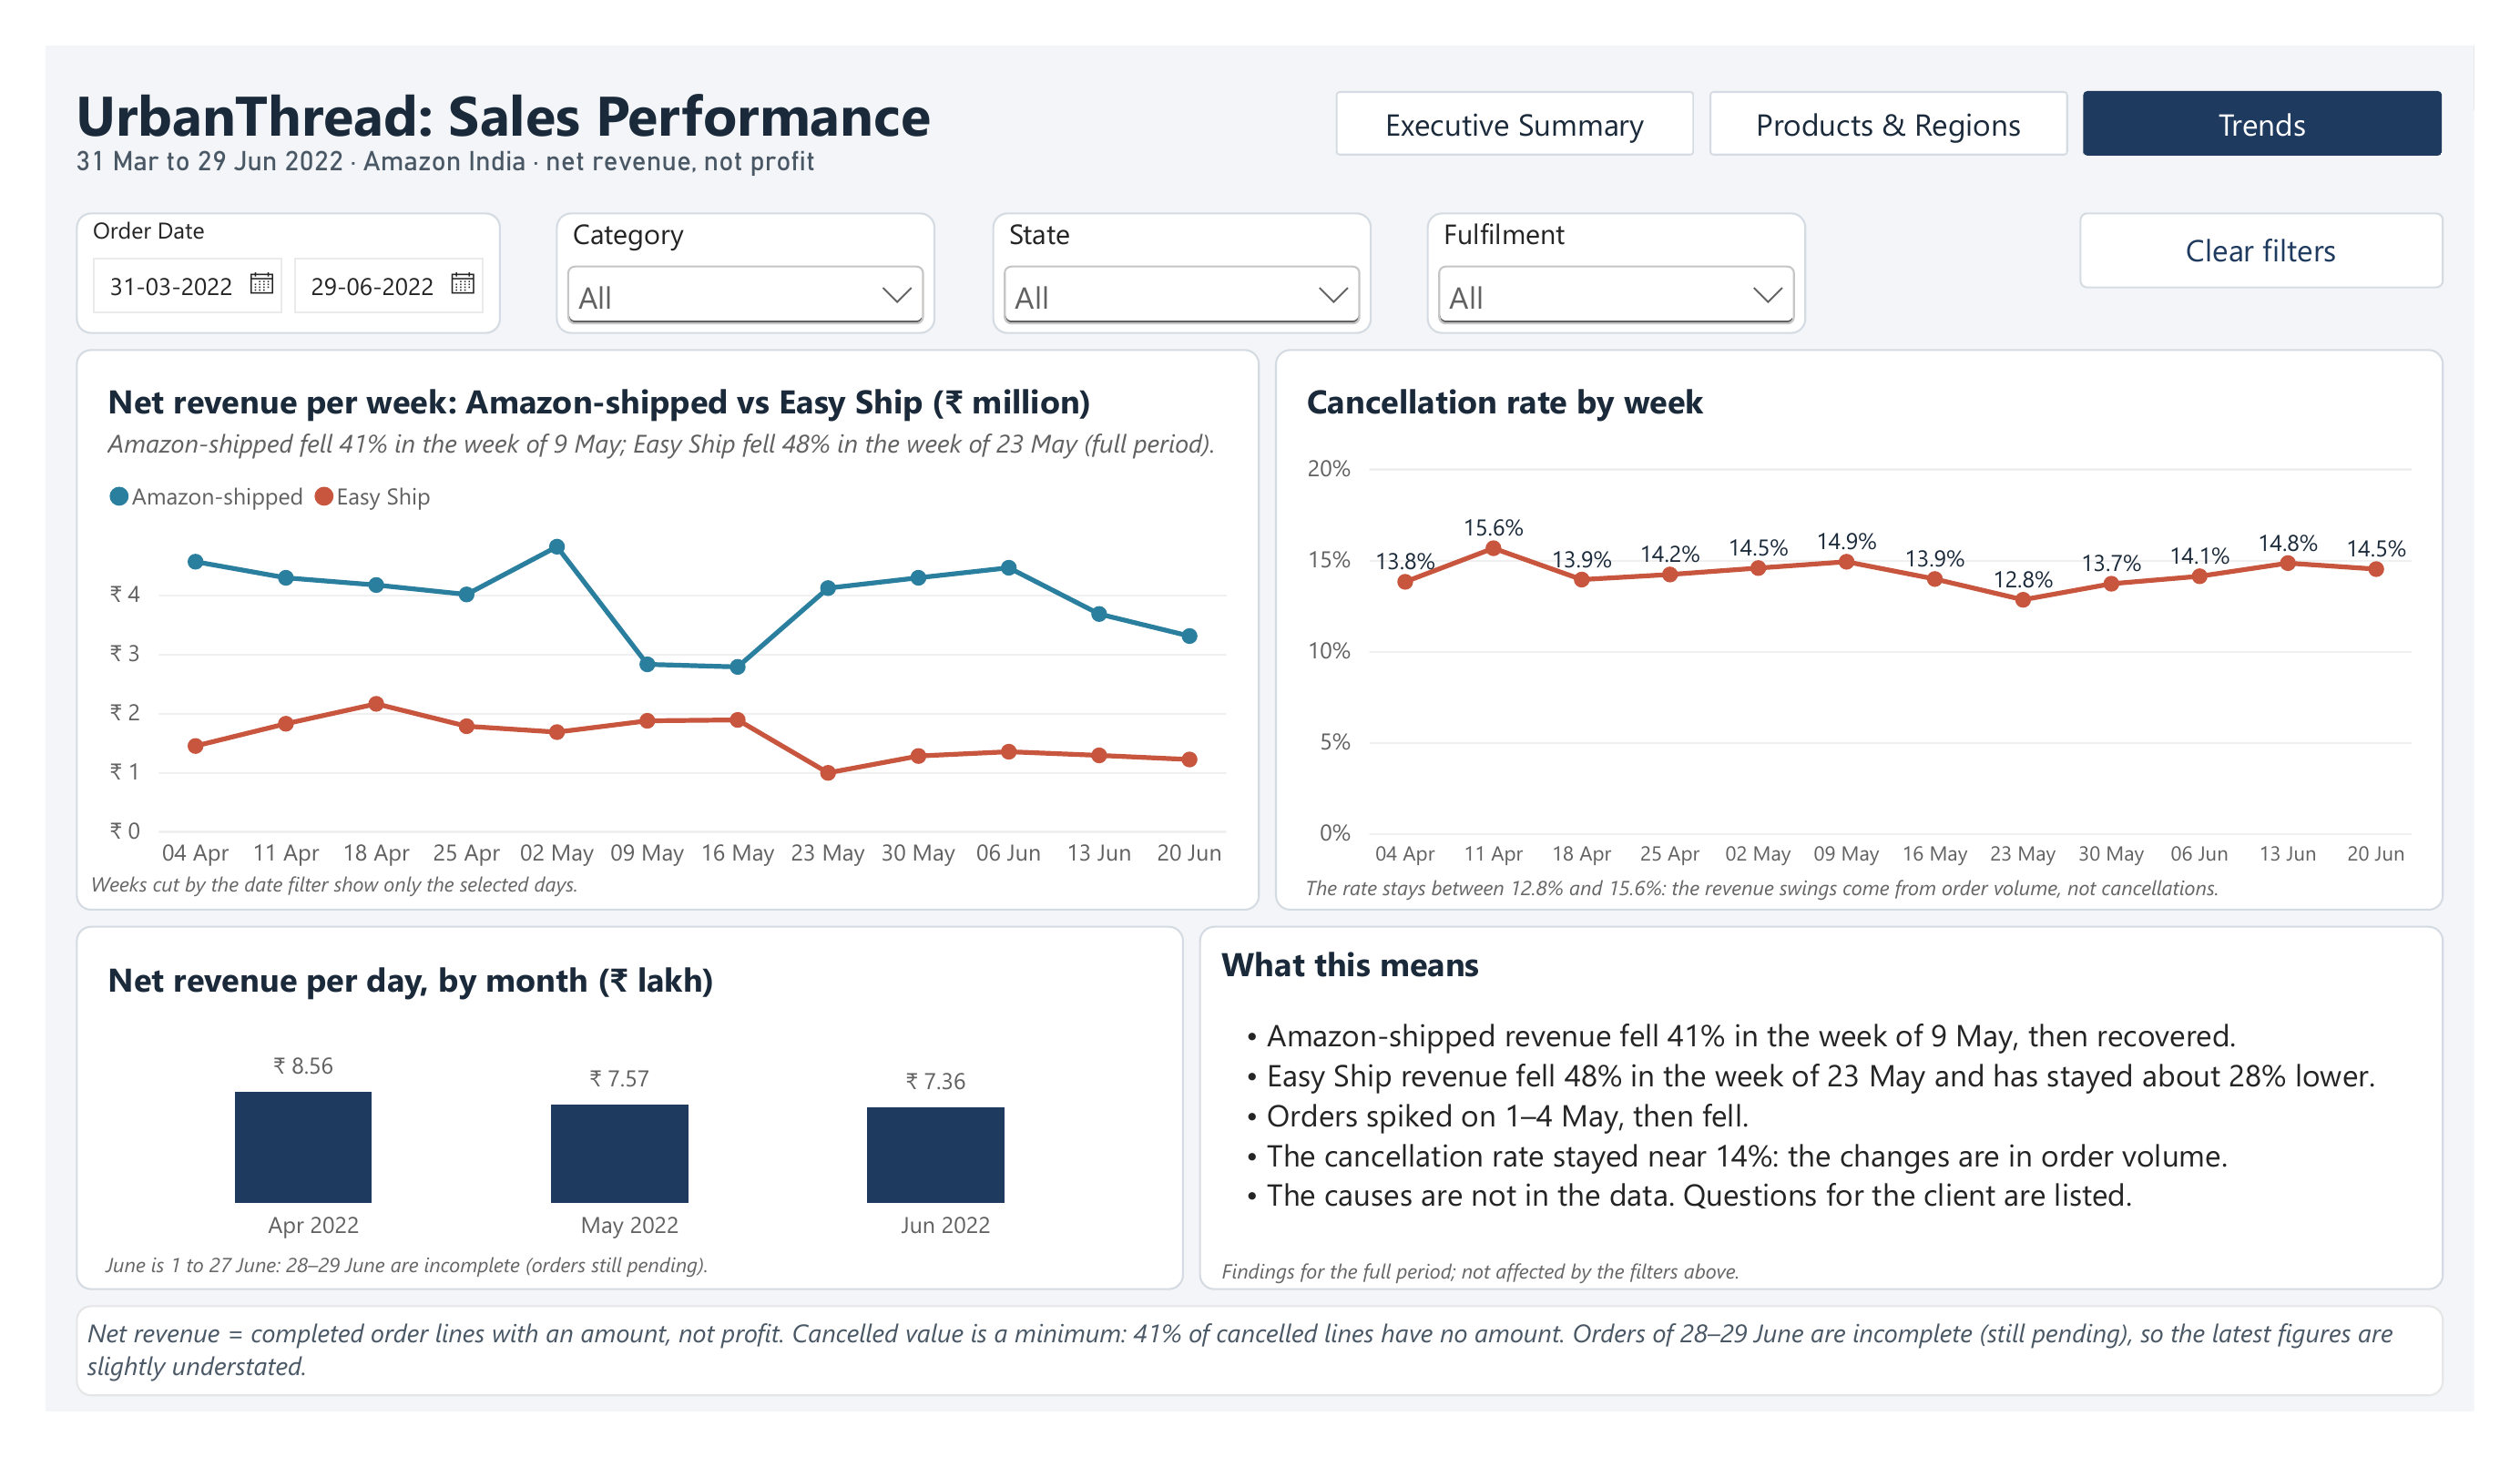

What the dashboard file says about the page in this screenshot:
{"tool":"powerbi","page":{"name":"Trends","canvas":[1280,720],"ordinal":2},"visuals":[{"type":"lineChart","title":"Net revenue per week: Amazon-shipped vs Easy Ship (₹ million)","fields":{"Category":["DimDate.WeekStart"],"Series":["DimFulfilment.Fulfilment"],"Y":["_Measures.Net Revenue Million"]},"box":[16,160,624,296],"z":0,"group":"g2"},{"type":"clusteredColumnChart","title":"Net revenue per day, by month (₹ lakh)","fields":{"Category":["DimDate.Month"],"Y":["_Measures.Net Revenue per Day Lakh"]},"box":[16,464,584,192],"z":0,"group":"g1"},{"type":"textbox","title":"What this means","box":[608,464,656,192],"z":0},{"type":"textbox","box":[24,431.3,336,24.7],"z":1000,"group":"g2"},{"type":"textbox","box":[29.3,632,557.5,19.2],"z":1000,"group":"g1"},{"type":"shape","title":"Net revenue = completed order lines with an amount, not profit. Cancelled value is a minimum: 41% of cancelled lines have no amount. Orders of 28–29 June are incomplete (still pending), so the latest ","box":[16,664,1248,48],"z":1000},{"type":"group","id":"g1","title":"Column chart - Net revenue per day by month","box":[16,464,584,192],"z":2000},{"type":"group","id":"g2","title":"Line chart - Net revenue per week","box":[16,160,624,296],"z":3000},{"type":"lineChart","title":"Cancellation rate by week","fields":{"Category":["DimDate.WeekStart"],"Y":["_Measures.Cancellation rate"]},"box":[648,160,616,296],"z":4000},{"type":"textbox","title":"Footer - cancellation rate week","box":[664,433,512,32],"z":5000},{"type":"pageNavigator","box":[672,16,600,50],"z":6000},{"type":"actionButton","title":"Button - clear filters","box":[1072,88,192,40],"z":7000},{"type":"textbox","title":"31 Mar to 29 Jun 2022 · Amazon India · net revenue, not profit","box":[16,53,408,24],"z":8000},{"type":"textbox","title":"UrbanThread: Sales Performance","box":[16,16,472,40],"z":9000},{"type":"slicer","title":"Slicer - Category","fields":{"Values":["DimProduct.Category"]},"box":[269.3,88,200,64],"z":10000},{"type":"slicer","title":"Slicer - Fulfilment","fields":{"Values":["DimFulfilment.Fulfilment"]},"box":[728,88,200,64],"z":11000},{"type":"slicer","title":"Slicer - Date","fields":{"Values":["DimDate.Date"]},"box":[16,88,224,64],"z":12000},{"type":"slicer","title":"Slicer - Ship State","fields":{"Values":["FactSales.ship_state"]},"box":[498.7,88,200,64],"z":13000}]}

Visuals, with their boxes on the page's 1280x720 design canvas (x1, y1, x2, y2). These are canvas units, not pixel positions in the 2520x1457 screenshot, which may show the page scaled, cropped or inside an application window:
"Net revenue per week: Amazon-shipped vs Easy Ship (₹ million)" lineChart: <bbox>16, 160, 640, 456</bbox>
"Net revenue per day, by month (₹ lakh)" clusteredColumnChart: <bbox>16, 464, 600, 656</bbox>
"What this means" textbox: <bbox>608, 464, 1264, 656</bbox>
textbox: <bbox>24, 431, 360, 456</bbox>
textbox: <bbox>29, 632, 587, 651</bbox>
"Net revenue = completed order lines with an amount, not profit. Cancelled value is a minimum: 41% of cancelled lines have no amount. Orders of 28–29 June are incomplete (still pending), so the latest " shape: <bbox>16, 664, 1264, 712</bbox>
"Column chart - Net revenue per day by month" group: <bbox>16, 464, 600, 656</bbox>
"Line chart - Net revenue per week" group: <bbox>16, 160, 640, 456</bbox>
"Cancellation rate by week" lineChart: <bbox>648, 160, 1264, 456</bbox>
"Footer - cancellation rate week" textbox: <bbox>664, 433, 1176, 465</bbox>
pageNavigator: <bbox>672, 16, 1272, 66</bbox>
"Button - clear filters" actionButton: <bbox>1072, 88, 1264, 128</bbox>
"31 Mar to 29 Jun 2022 · Amazon India · net revenue, not profit" textbox: <bbox>16, 53, 424, 77</bbox>
"UrbanThread: Sales Performance" textbox: <bbox>16, 16, 488, 56</bbox>
"Slicer - Category" slicer: <bbox>269, 88, 469, 152</bbox>
"Slicer - Fulfilment" slicer: <bbox>728, 88, 928, 152</bbox>
"Slicer - Date" slicer: <bbox>16, 88, 240, 152</bbox>
"Slicer - Ship State" slicer: <bbox>499, 88, 699, 152</bbox>
